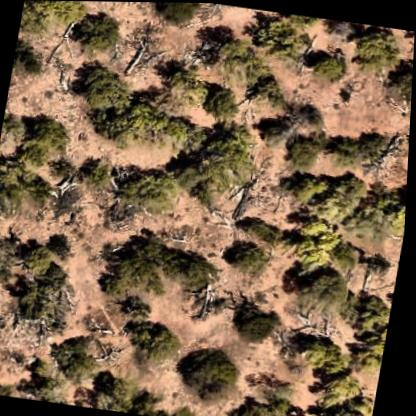tree-top: (187, 113, 261, 195), (89, 82, 171, 150), (282, 163, 365, 223), (107, 229, 177, 299), (178, 338, 249, 399), (114, 162, 184, 221), (346, 291, 395, 371), (285, 208, 346, 272), (291, 266, 356, 321), (72, 58, 132, 117), (351, 183, 409, 240), (202, 25, 257, 85), (193, 76, 256, 128), (49, 333, 105, 391), (296, 329, 353, 381), (249, 9, 306, 60), (348, 22, 402, 75), (71, 6, 124, 58), (133, 317, 187, 368), (95, 362, 148, 413), (160, 62, 214, 110), (21, 110, 72, 159), (17, 276, 66, 326), (235, 299, 284, 347), (345, 125, 394, 173), (226, 233, 275, 278), (281, 128, 326, 175), (171, 249, 219, 293), (19, 0, 72, 38), (22, 355, 67, 399), (18, 235, 62, 278), (323, 131, 367, 173), (0, 152, 31, 209), (305, 44, 349, 83), (253, 110, 295, 150), (322, 366, 364, 405), (78, 151, 119, 190), (201, 82, 243, 120), (154, 113, 195, 150), (385, 55, 414, 104), (249, 71, 287, 107), (0, 236, 25, 288), (123, 291, 159, 323), (97, 267, 132, 299), (237, 395, 286, 416), (22, 175, 56, 205), (154, 2, 200, 24), (13, 43, 43, 75), (321, 398, 373, 416), (47, 155, 75, 180), (172, 401, 203, 416), (293, 408, 331, 416), (0, 375, 15, 395)
